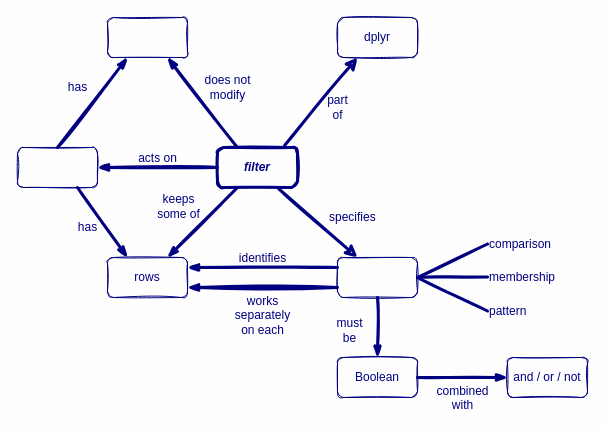
Image size: 605x431. Some labels were removed from this diagram. Here are the shapes that lost their labels. From the top down, the box of each, then its label:
(106, 16, 188, 58): columns
(16, 146, 98, 188): dataframe
(336, 256, 418, 298): condition
